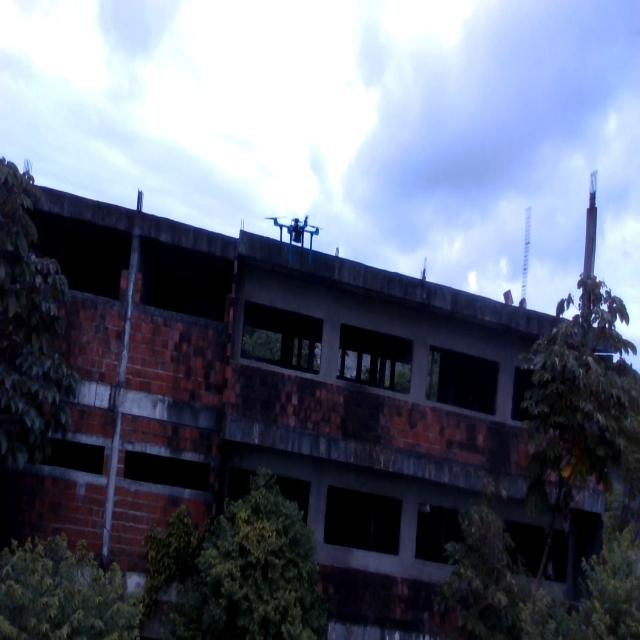-uav-: (261, 202, 326, 274)
